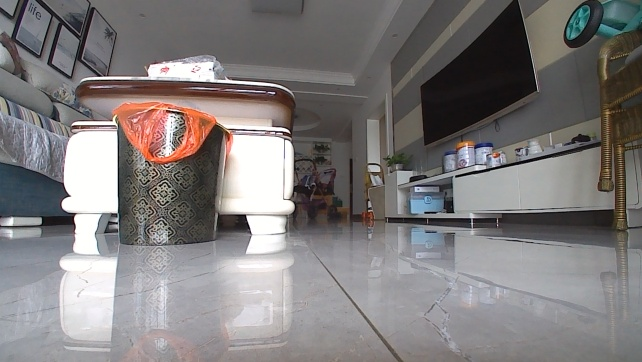TV_stand: (382, 131, 641, 227)
sofa1: (0, 45, 109, 226)
tea_table1: (59, 73, 300, 235)
wire: (491, 118, 502, 131)
